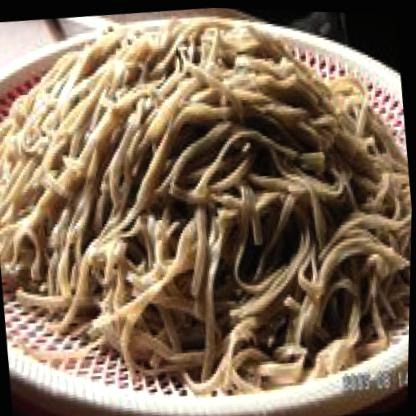memil soba: (0, 0, 415, 407)
